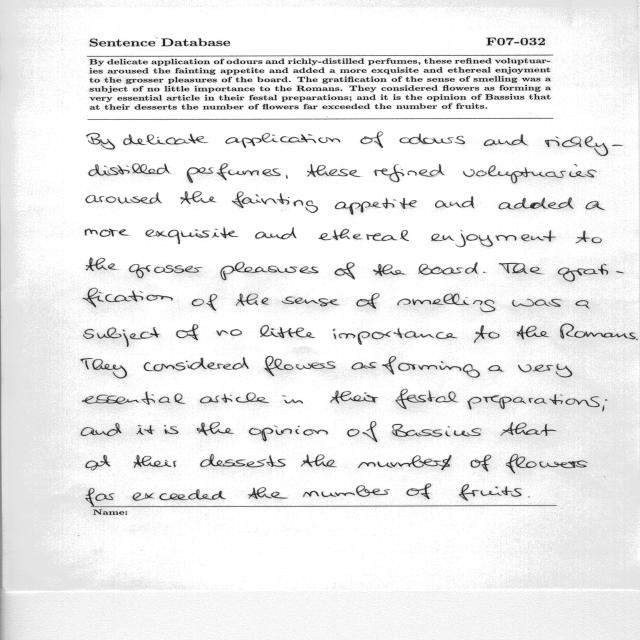word: (463, 164, 597, 183), (468, 394, 605, 412), (382, 356, 480, 378), (431, 230, 556, 247), (333, 328, 457, 345), (398, 294, 496, 313), (232, 192, 318, 213), (187, 164, 281, 183), (220, 262, 319, 280), (226, 133, 341, 148), (83, 288, 173, 307), (545, 136, 623, 156), (506, 454, 588, 473), (84, 327, 160, 347), (146, 228, 239, 244), (144, 357, 249, 371), (82, 391, 185, 405), (265, 356, 336, 376), (358, 455, 452, 470), (335, 198, 417, 215), (373, 164, 445, 182), (396, 389, 457, 409), (201, 454, 286, 468), (558, 264, 624, 282), (249, 426, 328, 441), (392, 424, 481, 437), (560, 324, 636, 339), (132, 489, 226, 501), (319, 229, 409, 241), (459, 484, 521, 501), (303, 485, 390, 497), (129, 264, 202, 278), (89, 164, 170, 176), (123, 134, 208, 145), (81, 358, 127, 378), (499, 198, 574, 210), (86, 193, 162, 204), (501, 422, 557, 436), (418, 262, 478, 275), (200, 393, 269, 404), (260, 325, 315, 338), (519, 364, 573, 377), (307, 164, 360, 177), (400, 134, 465, 144), (348, 422, 378, 443), (331, 391, 379, 404), (282, 297, 339, 307), (134, 455, 176, 468), (85, 488, 115, 506), (81, 423, 121, 436), (484, 134, 527, 146), (86, 133, 115, 150), (255, 228, 296, 240), (435, 197, 475, 209), (499, 263, 542, 274), (474, 325, 500, 343), (197, 422, 233, 435), (248, 487, 287, 499), (517, 326, 549, 340), (181, 192, 217, 204), (192, 294, 217, 311), (301, 455, 336, 467), (86, 258, 117, 271), (512, 299, 561, 307), (360, 131, 383, 148), (373, 264, 405, 276), (236, 294, 268, 306), (407, 484, 432, 499), (357, 293, 380, 309), (86, 455, 110, 470), (85, 229, 129, 237), (176, 324, 198, 340), (335, 263, 355, 280), (471, 455, 491, 472), (576, 231, 602, 244), (216, 329, 242, 336), (137, 425, 155, 435), (352, 362, 377, 369), (586, 201, 605, 210), (282, 396, 303, 404), (576, 300, 590, 309), (165, 425, 179, 434), (489, 365, 504, 372), (286, 175, 288, 179), (605, 399, 607, 401), (483, 272, 486, 273), (636, 339, 638, 340), (528, 497, 530, 498)
